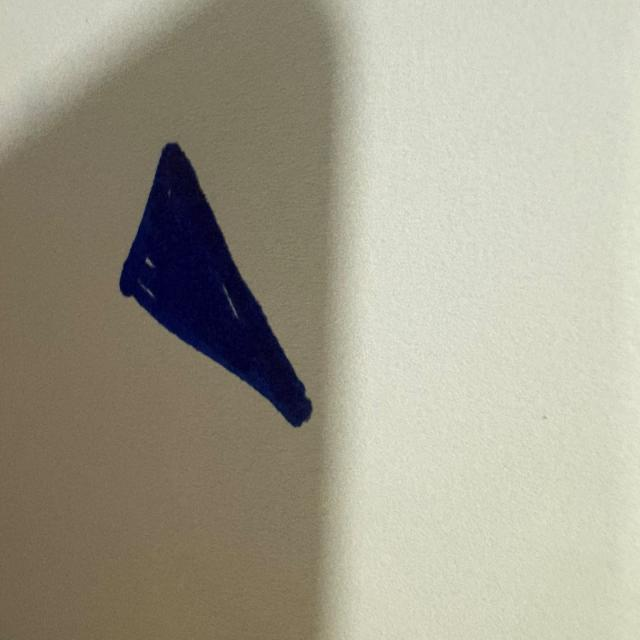Triangle: (120, 143, 312, 427)
